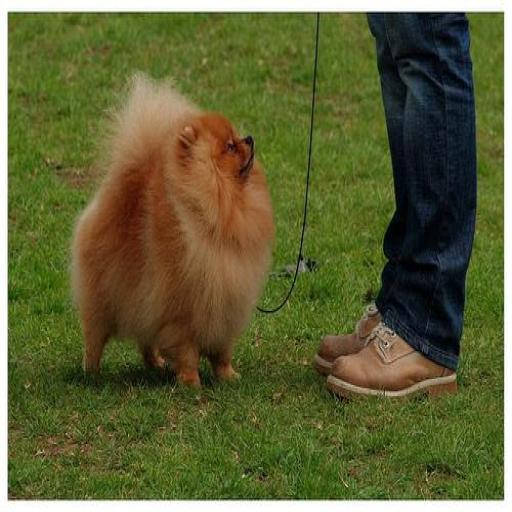dog_face: (184, 114, 260, 192)
